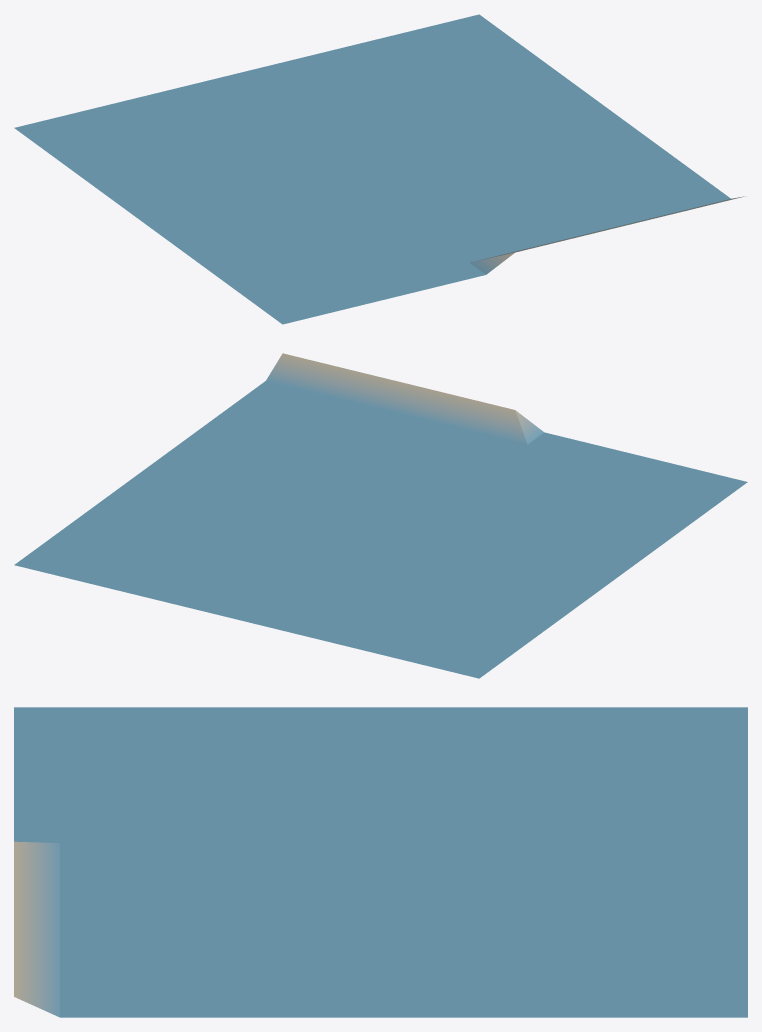
3 views of the same model, one above another, from view 1: azimuth 30°, elevation 25°; view 2: azimuth 150°, elevation 25°; view 3: azimuth 270°, elevation 25° (orthographic). The views are drawn at different scales.
Size of the model in its own units: 32 by 1 by 32.
